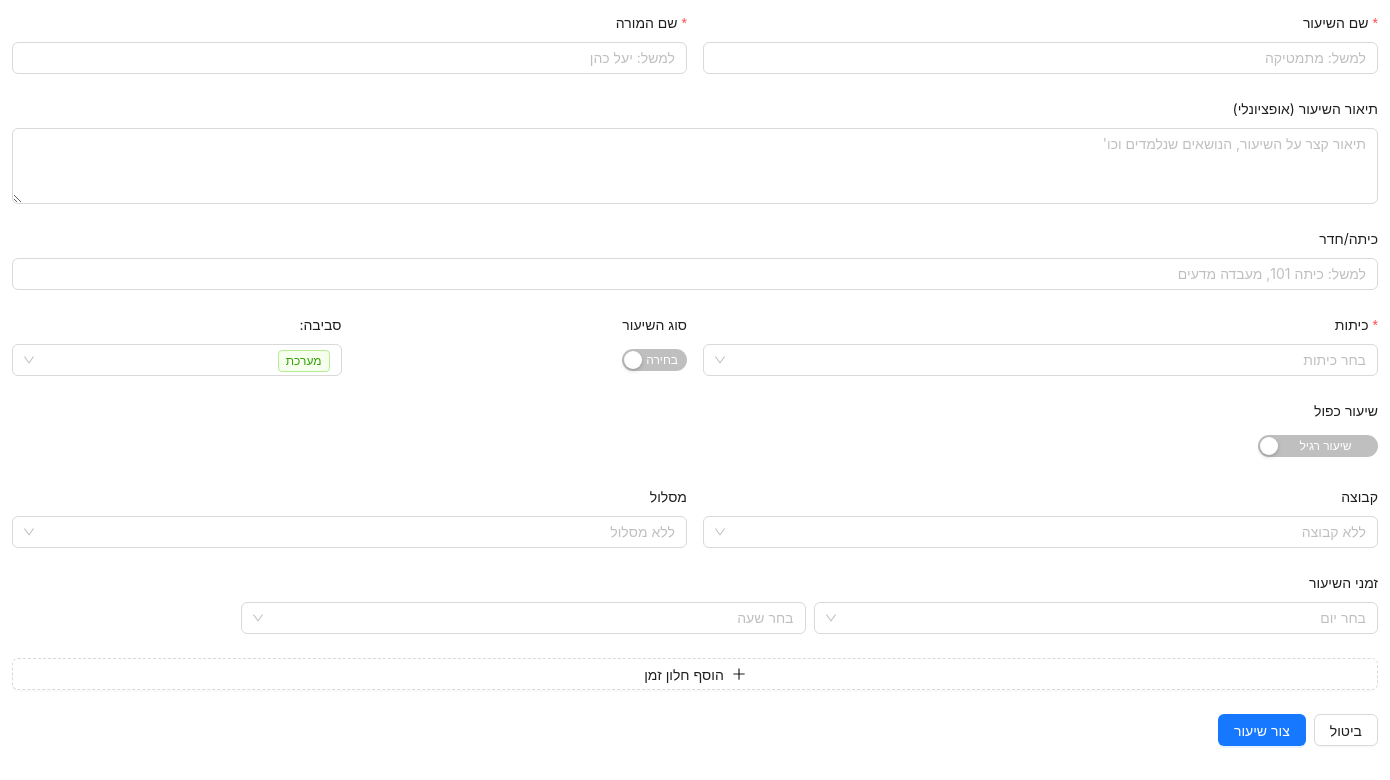
Test: ClassForm time slot picker › offers meeting slots alongside lesson slots
This screenshot has width=1390, height=780.
Press the mouse on the dropdown next to "בחר שעה" at (532, 618), box [271,603,794,633]
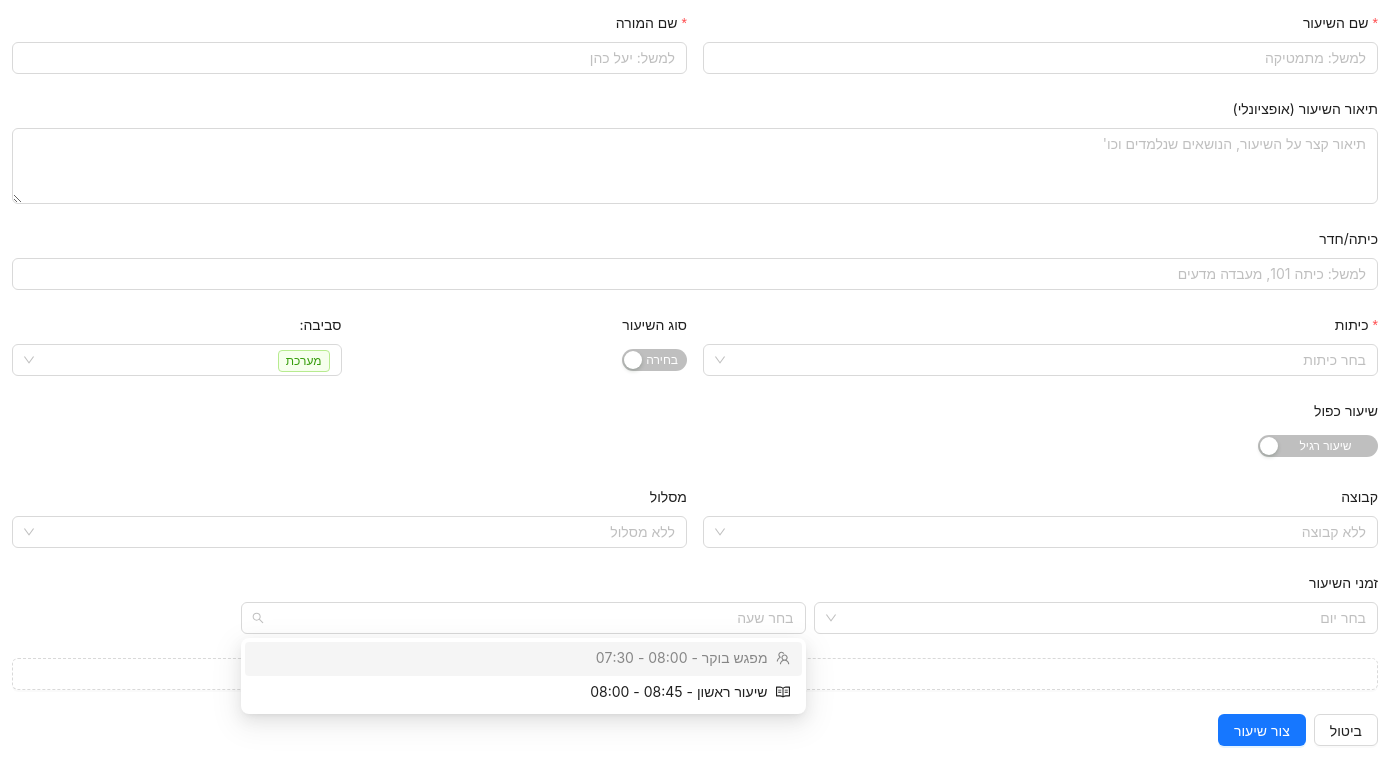
Expected: the text "מפגש בוקר - 08:00 - 07:30" is shown, [596,647,790,669]
Expected: the text "שיעור ראשון - 08:45 - 08:00" is shown, [590,681,790,703]
